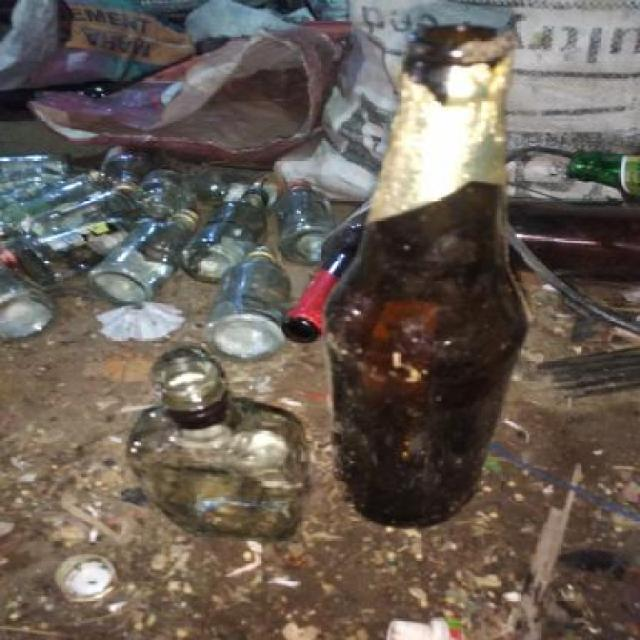garbage: (2, 145, 416, 381), (334, 48, 525, 550), (93, 332, 379, 524), (3, 526, 200, 609), (43, 56, 150, 117), (557, 140, 632, 222)
